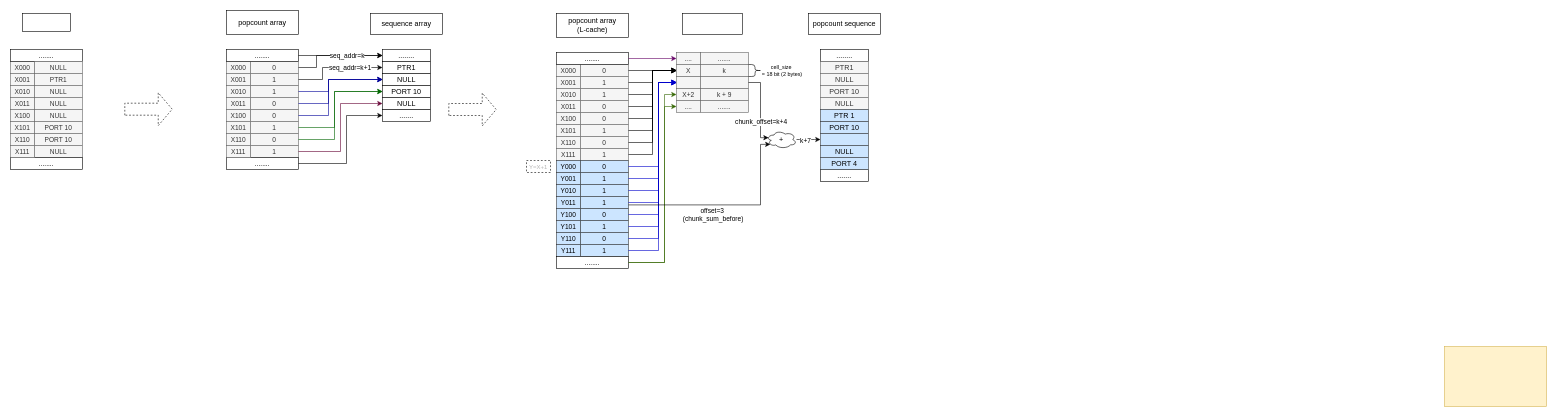
The diagram is 1557 pixels wide and 417 high, and some of its shapes have lost their labels. Here are the shapes that lost their labels. From the top down, the centre of each, then its label:
At point (46, 22): "L-cache".
At point (712, 23): "chunk sums".
At point (688, 82): "X+1".
At point (724, 82): "k + 4".
At point (844, 139): "PTR R".
At point (1495, 376): "L3 sizes popcount block: 8 byte (64 bit) chunk sums block:".
